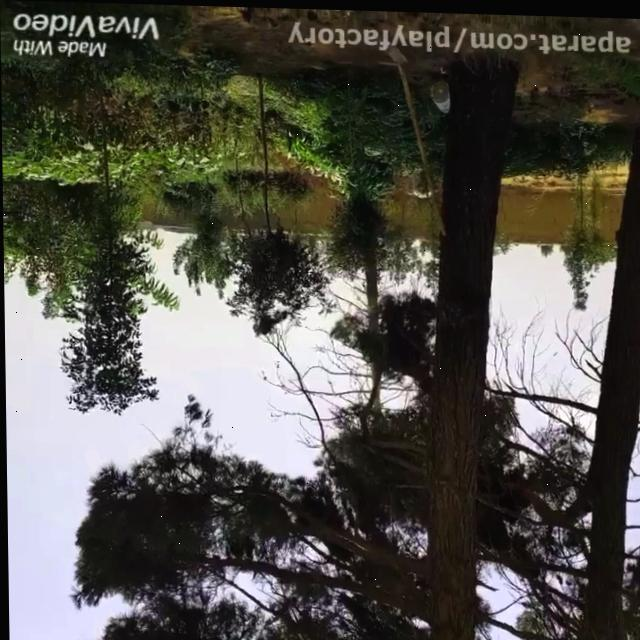drone: (313, 343, 327, 356)
